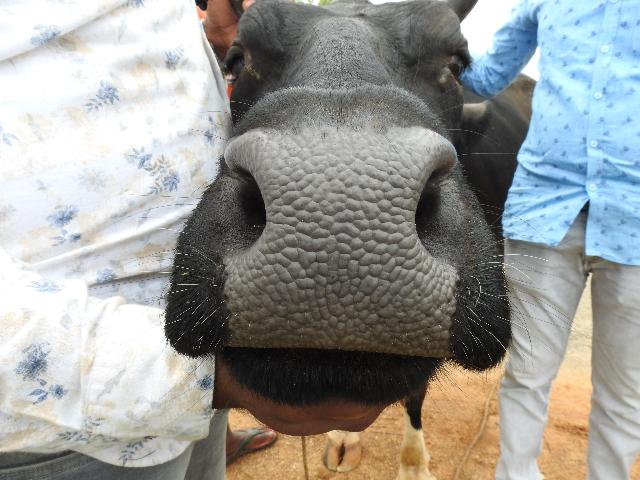Muzzle: (243, 137, 434, 345)
